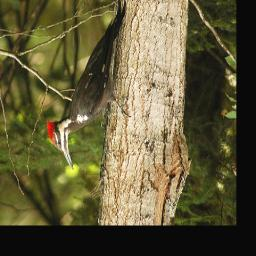Woodpecker: (45, 0, 134, 170)
